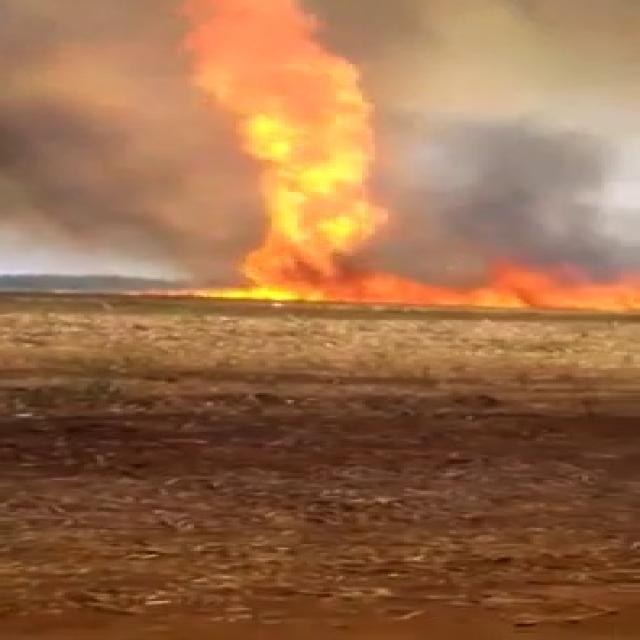Fire: (187, 0, 381, 300), (390, 260, 640, 310), (118, 290, 183, 298)
Smoke: (391, 1, 640, 251), (4, 0, 182, 266)
